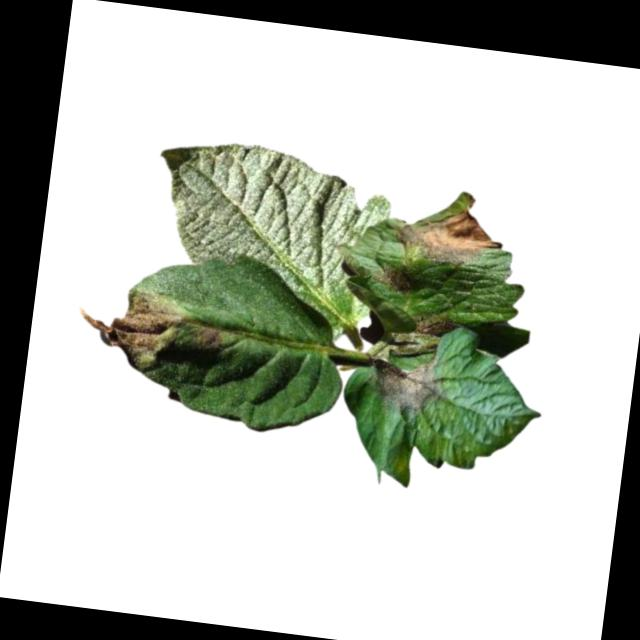Late_blight: (72, 278, 193, 376), (389, 200, 506, 271), (366, 349, 441, 421), (409, 308, 461, 338), (373, 263, 415, 295), (194, 324, 223, 351)
